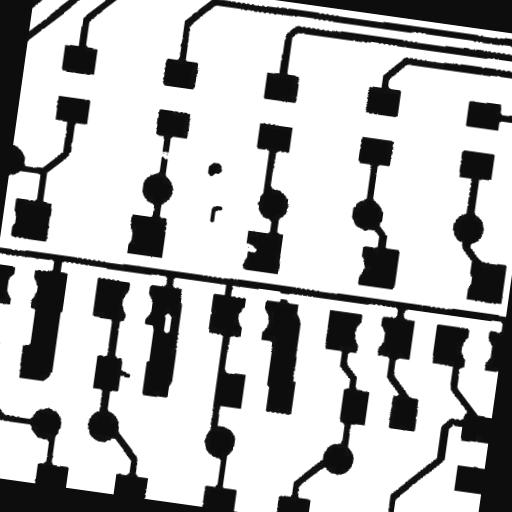copper: (198, 153, 231, 186), (201, 196, 231, 232)
mousebite: (236, 234, 266, 261)
open: (148, 142, 180, 168), (269, 284, 302, 309)
pin-hole: (154, 304, 180, 342)
short: (215, 271, 242, 308)
spur: (106, 360, 139, 386)
